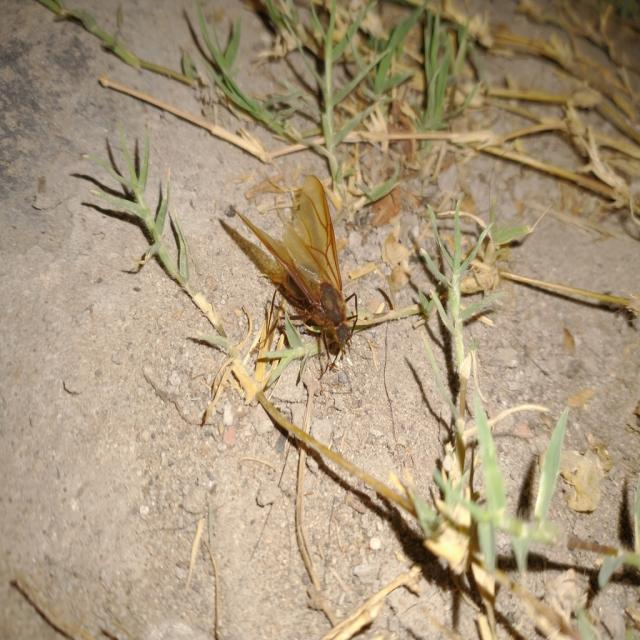Alive-Male-Alate: (230, 174, 381, 380)
